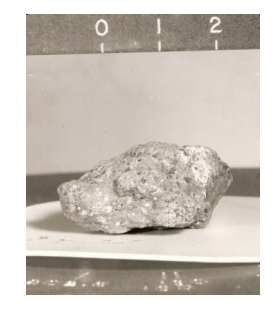Breccia: (38, 121, 241, 242)
